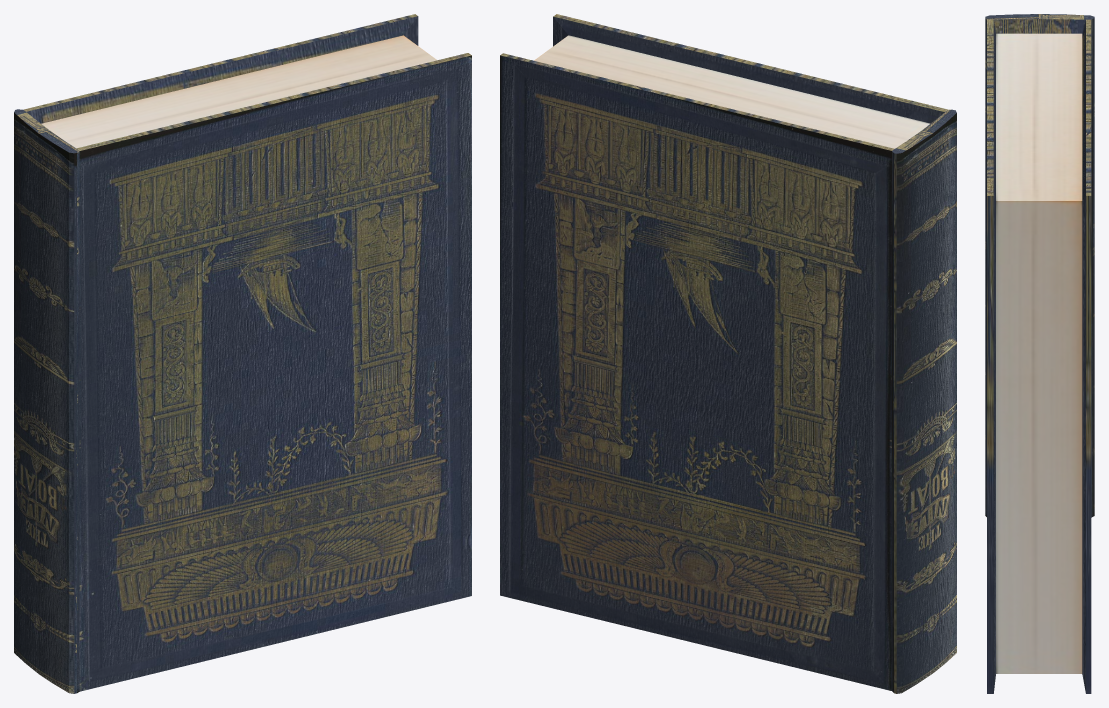
File: book3.fbx
3 views of the same model, side by side, from view 1: azimuth 30°, elevation 25°; view 2: azimuth 150°, elevation 25°; view 3: azimuth 270°, elevation 25° (orthographic). The views are drawn at different scales.
Visible parts, largest first — view 1: Cube; view 2: Cube; view 3: Cube.
Boxes of the visible parts, <box> form: Cube: <box>14,14,471,693</box>; Cube: <box>500,14,956,693</box>; Cube: <box>985,14,1094,693</box>.
Bounding box in the file's own units: 7.81 × 9.97 × 1.98.
2 materials, 2 textured.
